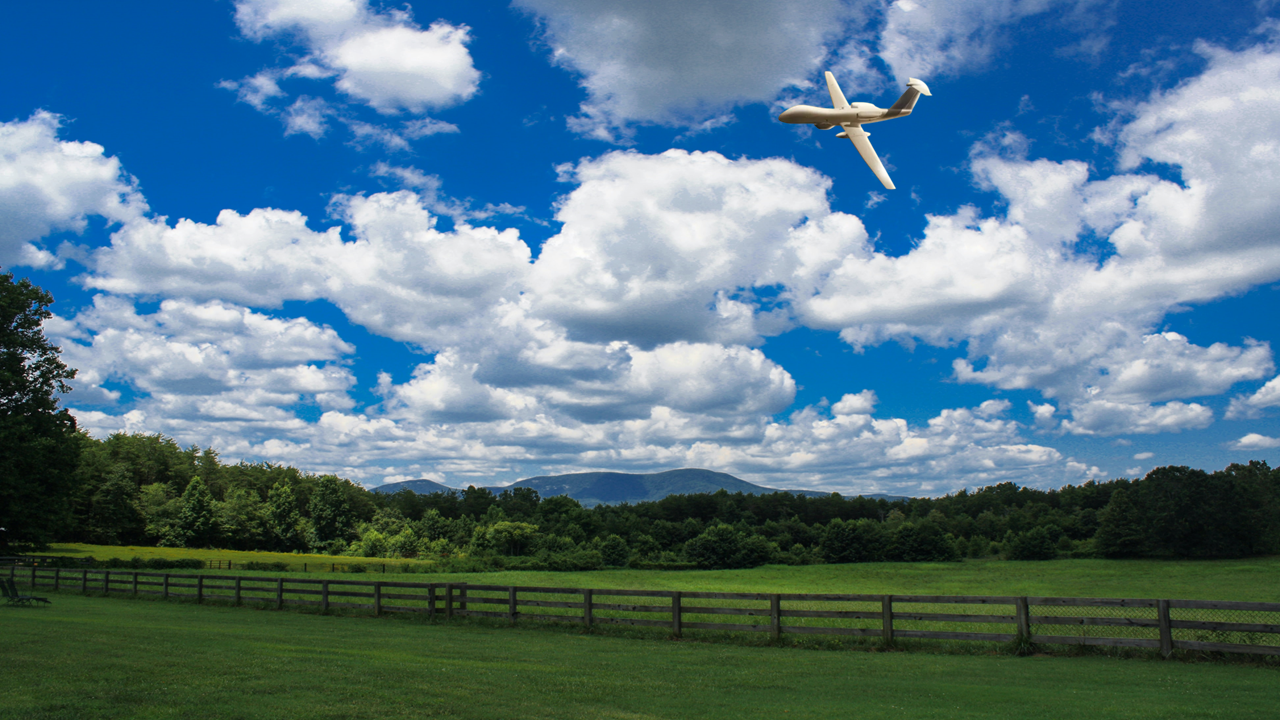military drone: (778, 70, 932, 189)
